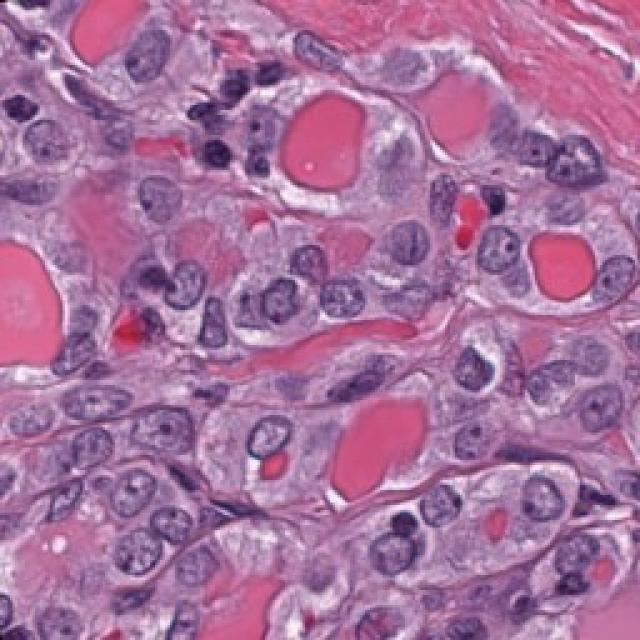abnormal: (126, 387, 224, 474), (534, 99, 618, 200), (110, 143, 200, 230), (58, 366, 164, 437), (234, 404, 326, 484), (366, 514, 456, 591), (401, 459, 482, 544), (375, 205, 449, 295), (469, 211, 539, 303), (437, 332, 516, 412), (147, 239, 221, 319), (508, 458, 578, 542), (559, 362, 636, 438), (590, 245, 640, 350), (253, 264, 314, 346), (104, 452, 160, 532), (117, 21, 179, 91), (101, 515, 164, 583), (42, 415, 122, 468), (16, 110, 74, 175), (0, 157, 78, 205)
